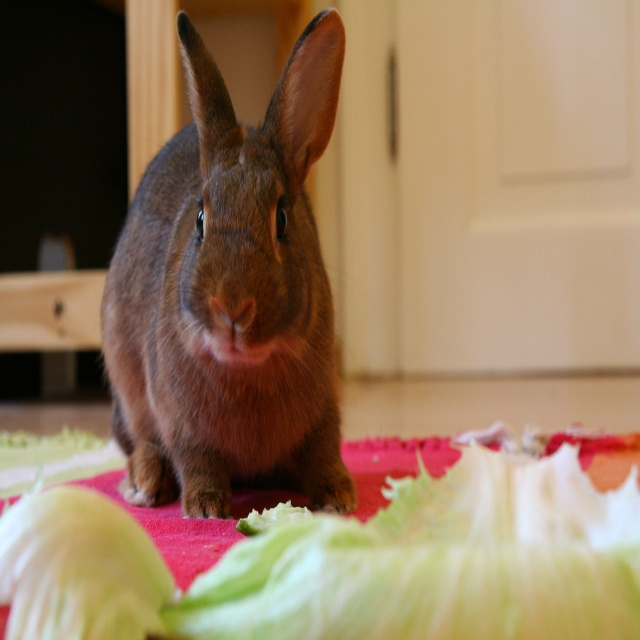Rabbit: (98, 10, 363, 527)
